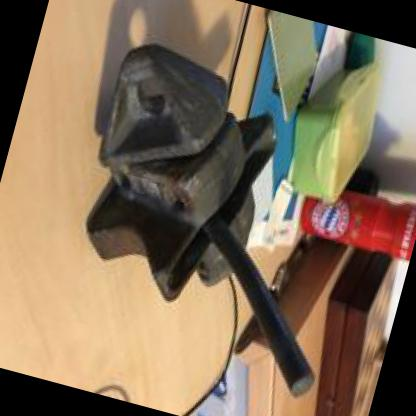Twistlock: (39, 27, 397, 413)
